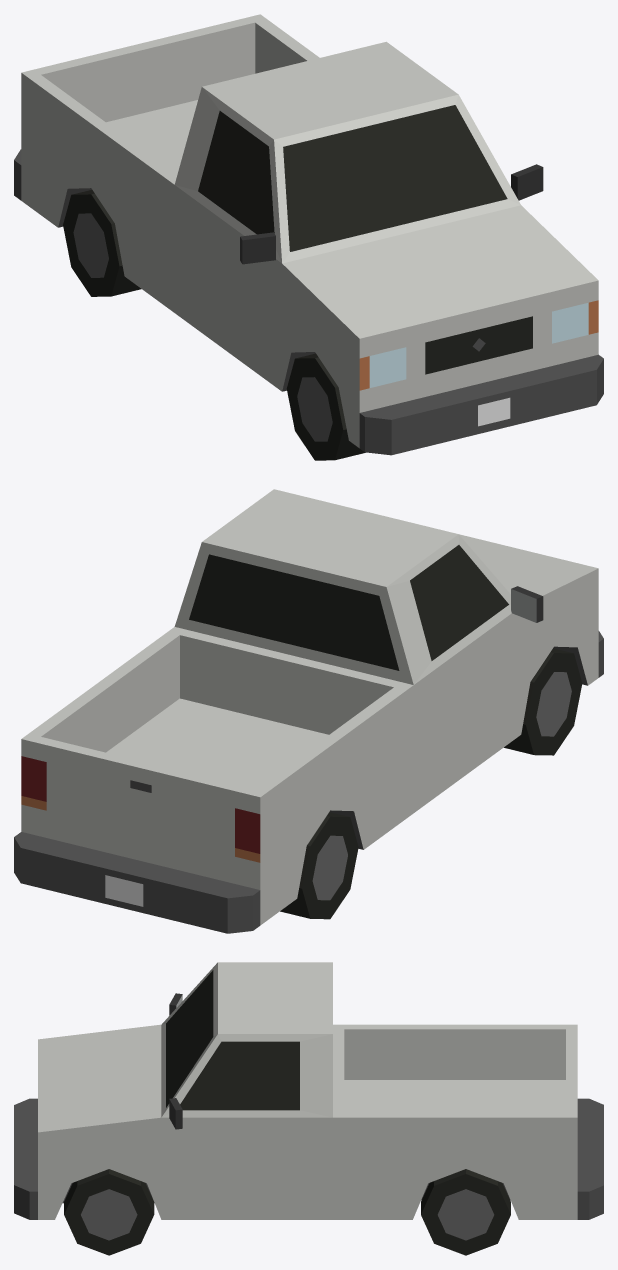
File: Veh_Pickup_01_White.obj
The picture shows the model from 3 angles, top to bottom: view 1: azimuth 30°, elevation 25°; view 2: azimuth 150°, elevation 25°; view 3: azimuth 270°, elevation 25°; orthographic projection. The views are drawn at different scales.
Bounding box in the file's own units: 1.34 × 1.12 × 2.85.
